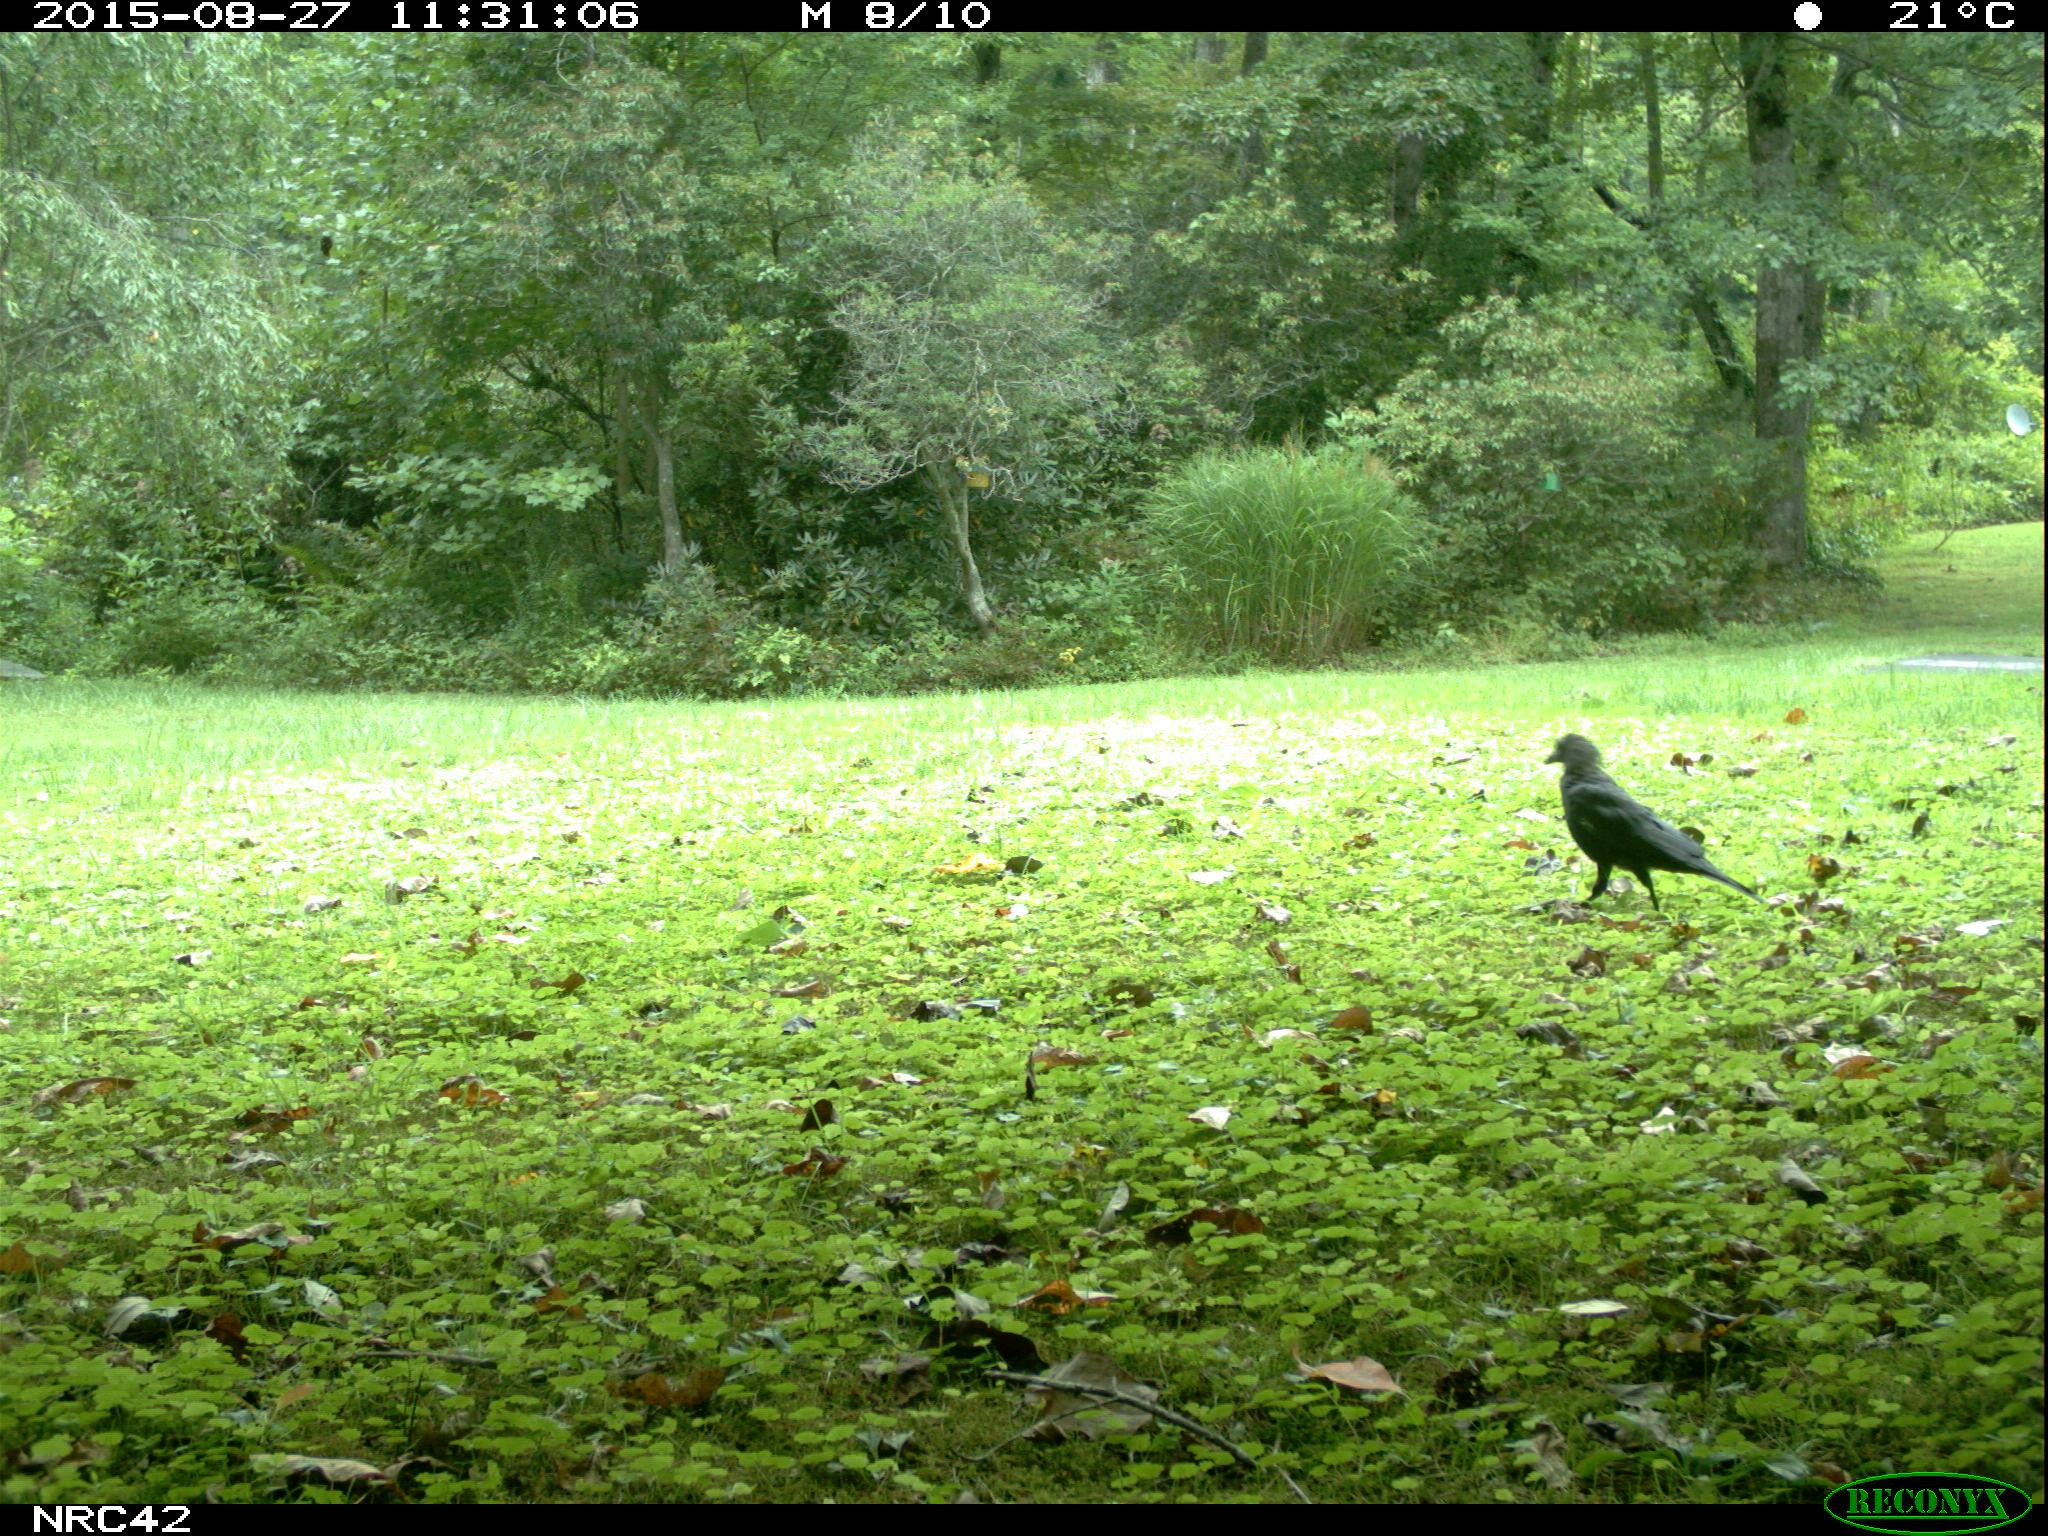Animal: (1545, 729, 1769, 908)
